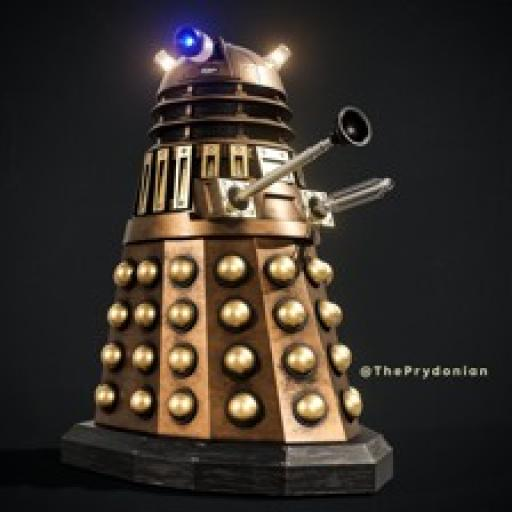dalek: (56, 18, 398, 497)
